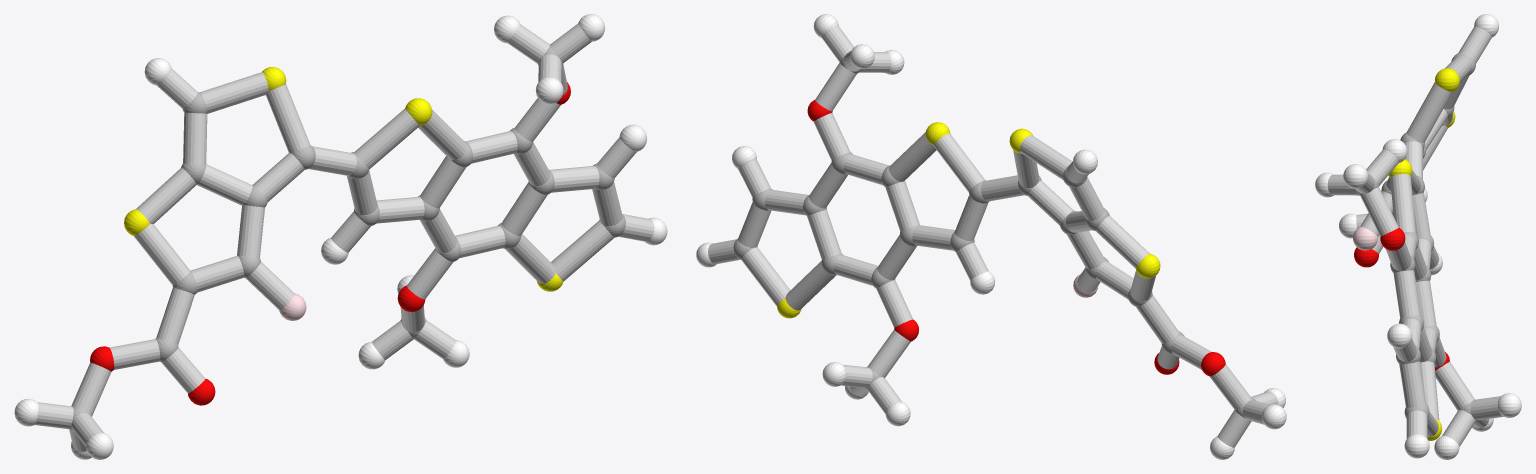
File: color.glb
3 views of the same model, side by side, from view 1: azimuth 30°, elevation 25°; view 2: azimuth 150°, elevation 25°; view 3: azimuth 270°, elevation 25° (orthographic). The views are drawn at different scales.
Visible parts, largest first — view 1: grp15205, grp8689, grp1, grp7241, grp13395; view 2: grp15205, grp8689, grp1, grp7241, grp13395; view 3: grp15205, grp8689, grp1, grp7241, grp13395, grp14843.
Boxes of the visible parts, box(x1,y1,x2,y2) form: grp15205: box(35, 23, 654, 451); grp8689: box(14, 14, 667, 459); grp1: box(70, 46, 625, 431); grp7241: box(124, 67, 563, 291); grp13395: box(90, 82, 570, 405); grp15205: box(708, 25, 1278, 447); grp8689: box(696, 14, 1286, 459); grp1: box(733, 56, 1256, 417); grp7241: box(777, 122, 1160, 318); grp13395: box(807, 100, 1225, 376); grp15205: box(1327, 26, 1503, 446); grp8689: box(1315, 14, 1521, 459); grp1: box(1356, 53, 1477, 421); grp7241: box(1388, 68, 1459, 440); grp13395: box(1354, 228, 1449, 370); grp14843: box(1353, 226, 1377, 250).
Bounding box in the file's own units: 16.18 × 8.74 × 4.94.
